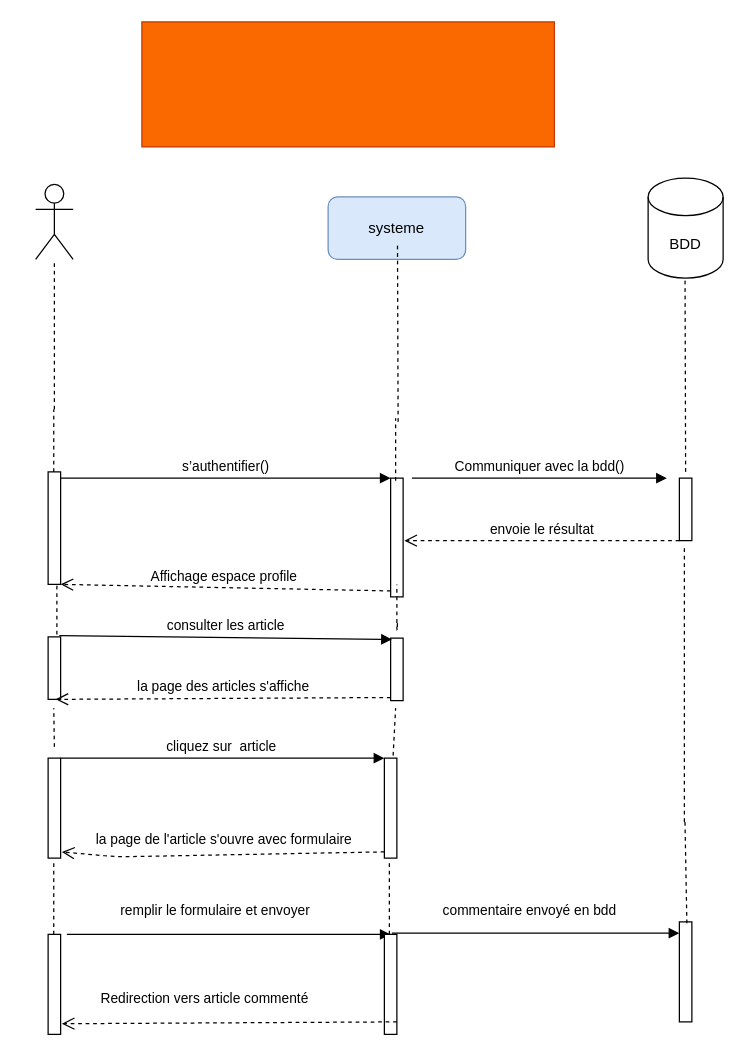
Some shapes in this 745 by 1059 pixel diagram are drawn without their labels. Each missing label, with the centre of its shape:
"DIAGRAMME DE SÉQUENCE Commentaire" goes at [347,84].
"Utilisateur" goes at [53,221].
